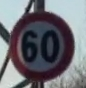limite 60: (9, 12, 75, 82)
